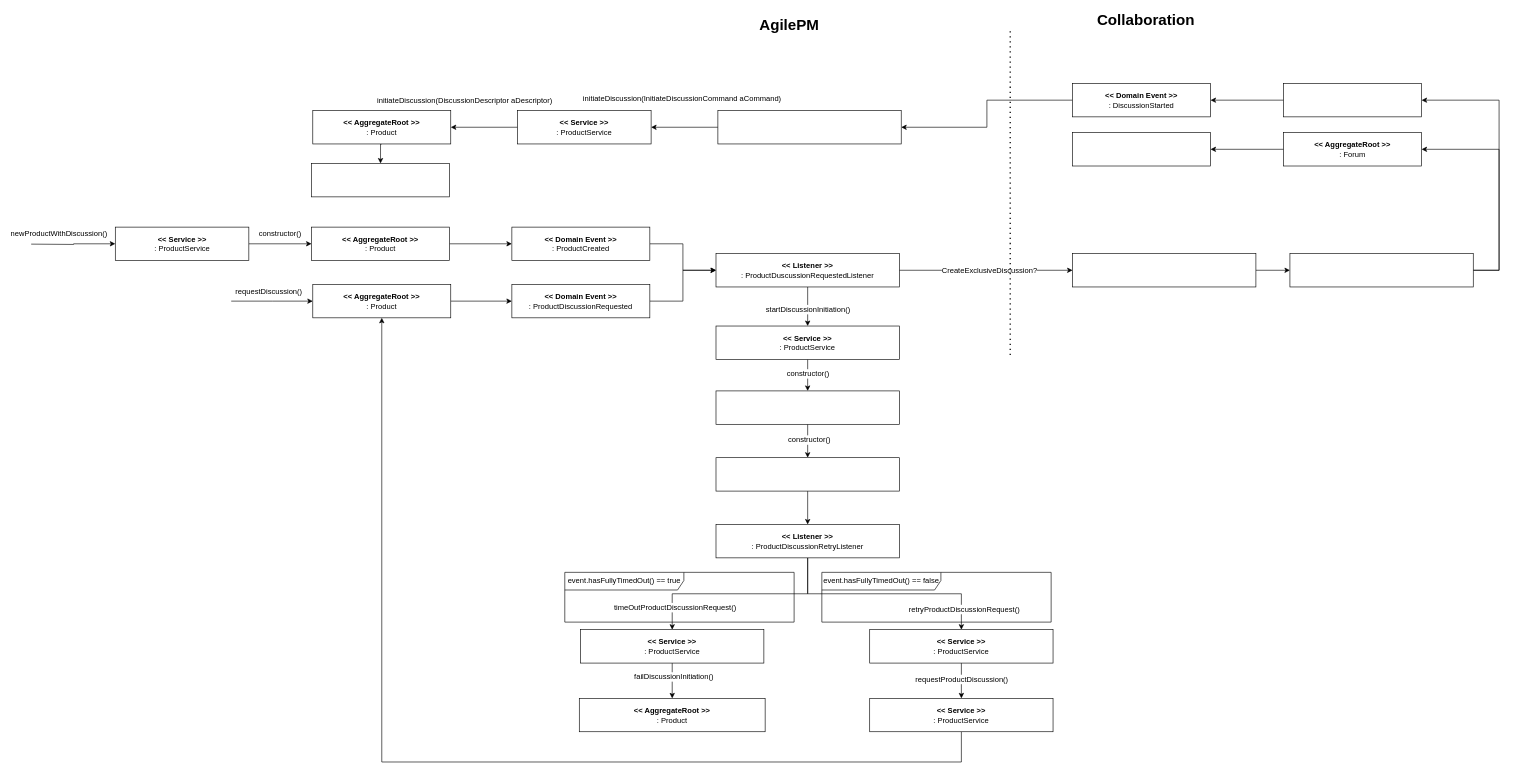
Some shapes in this 1515 by 778 pixel diagram are drawn without their labels. The box of each missing label's shape, as (x1, y1, x2, y2) in pixels:
<< Aggregate Root >> : Discussion: (1283, 83, 1422, 117)
<< Domain Event >> : ForumStarted: (1072, 132, 1211, 166)
<< Domain Event >> : ProductDiscussionInitiated: (311, 163, 450, 197)
<< Domain Event >> : ProductDiscussionRequestTimedOut: (715, 457, 899, 491)
<< Listener >> : DiscussionStartedListener: (717, 110, 901, 144)
<< Listener >> : ExclusiveDiscussionCreationListener: (1072, 253, 1256, 287)
<< Service >> : ForumService: (1289, 253, 1473, 287)
<< Tracker >> : TimeConstrainedProcessTracker: (715, 390, 899, 424)
